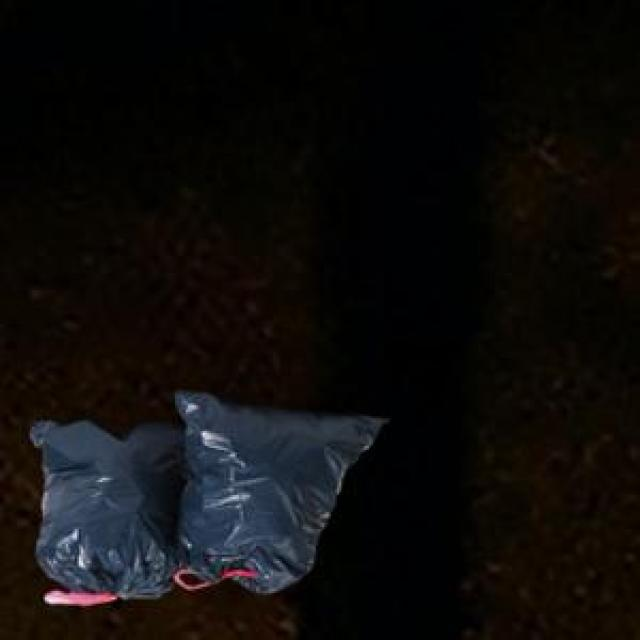Trashbag: (168, 392, 374, 592), (18, 410, 192, 607)
